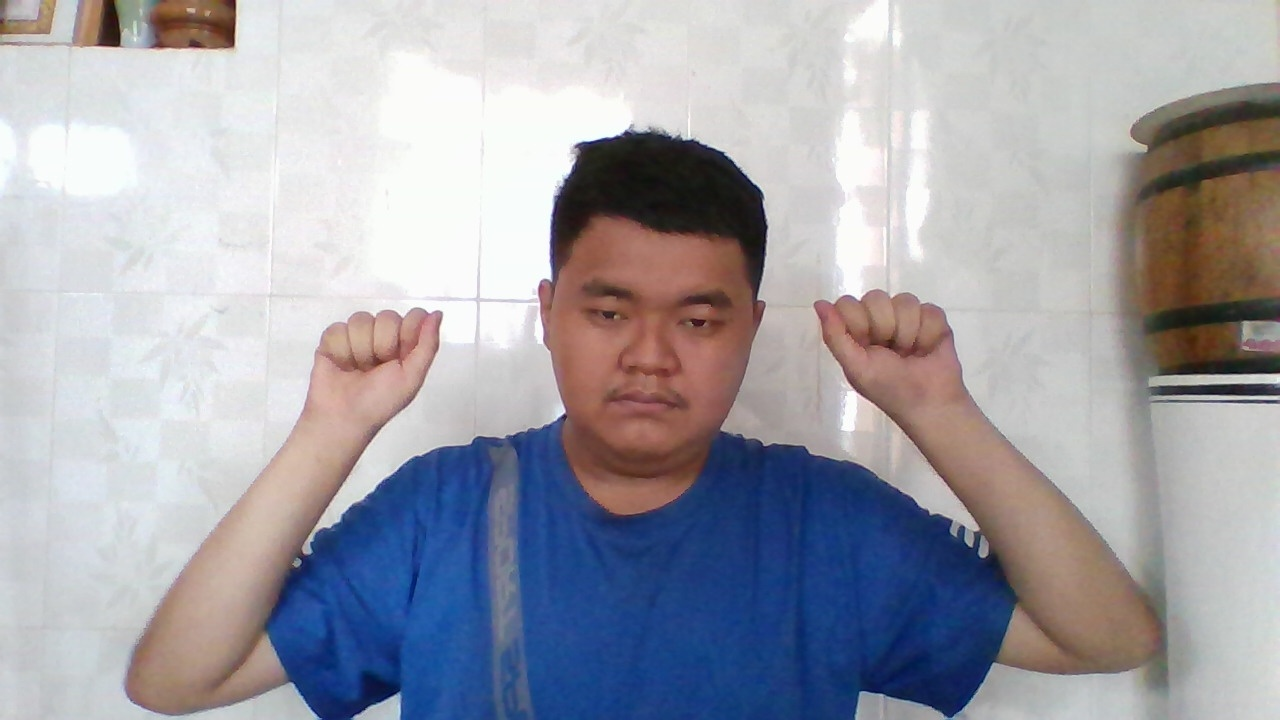A: (803, 279, 950, 416), (316, 296, 451, 434)
